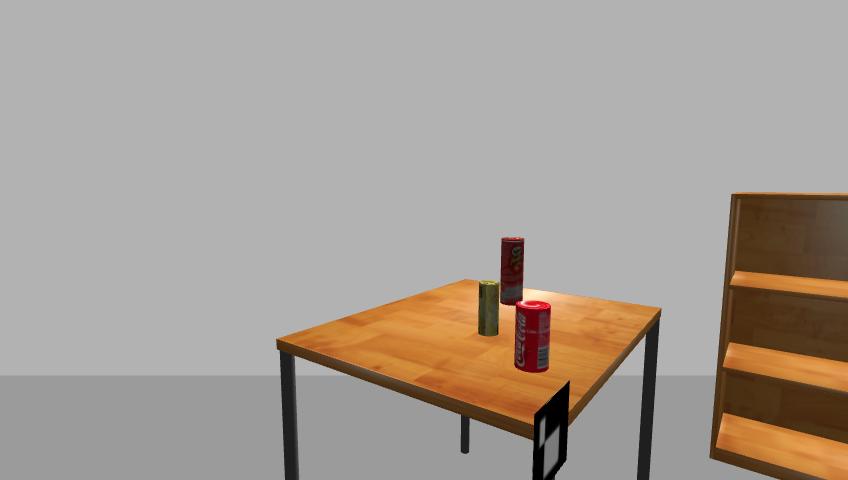aruco marker: (529, 382, 572, 480)
biscuits pack: (477, 280, 499, 337)
bookshelf: (706, 192, 848, 479)
coke can: (513, 301, 552, 373)
dinner table: (268, 279, 669, 479)
pringles can: (498, 236, 527, 309)
